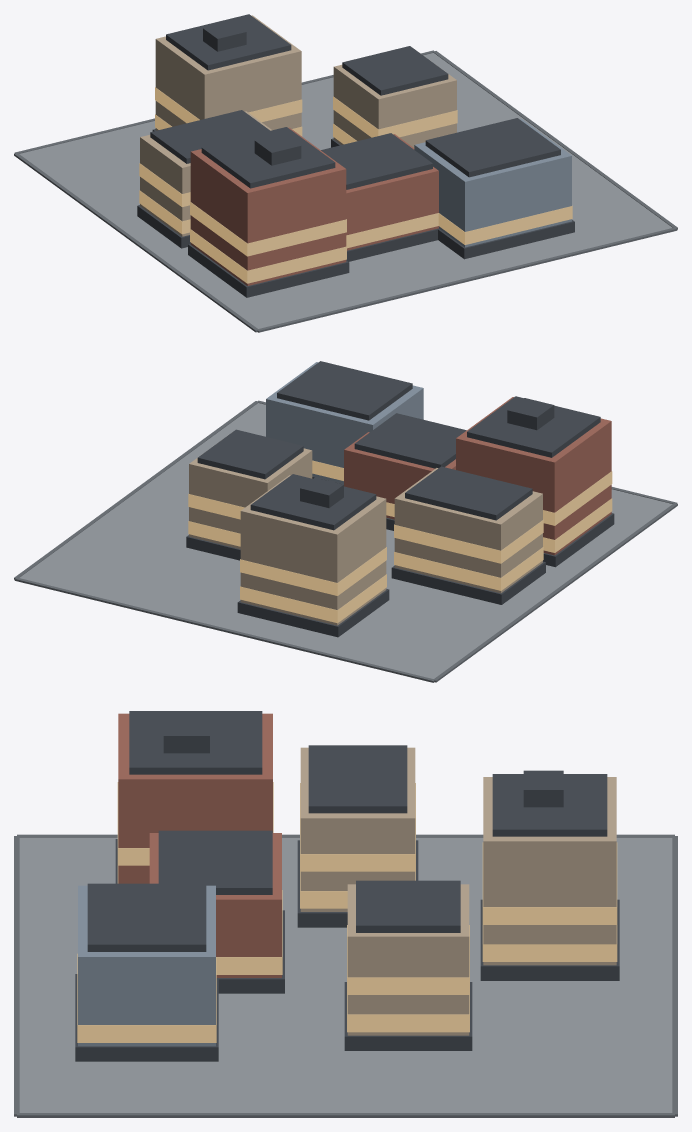
Rendered from block_lowrise.glb.
The picture shows the model from 3 angles, top to bottom: view 1: azimuth 30°, elevation 25°; view 2: azimuth 150°, elevation 25°; view 3: azimuth 270°, elevation 25°; orthographic projection. The views are drawn at different scales.
Visible parts, largest first — view 1: BlockLowrise; view 2: BlockLowrise; view 3: BlockLowrise.
Part boxes in pixels (x1,y1,x2,y2): BlockLowrise: (14,14,677,332); BlockLowrise: (14,361,677,682); BlockLowrise: (14,711,677,1117).
Bounding box in the file's own units: 58.5 × 16.29 × 58.5.
